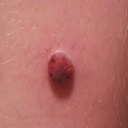Melanoma: (45, 49, 78, 85)
